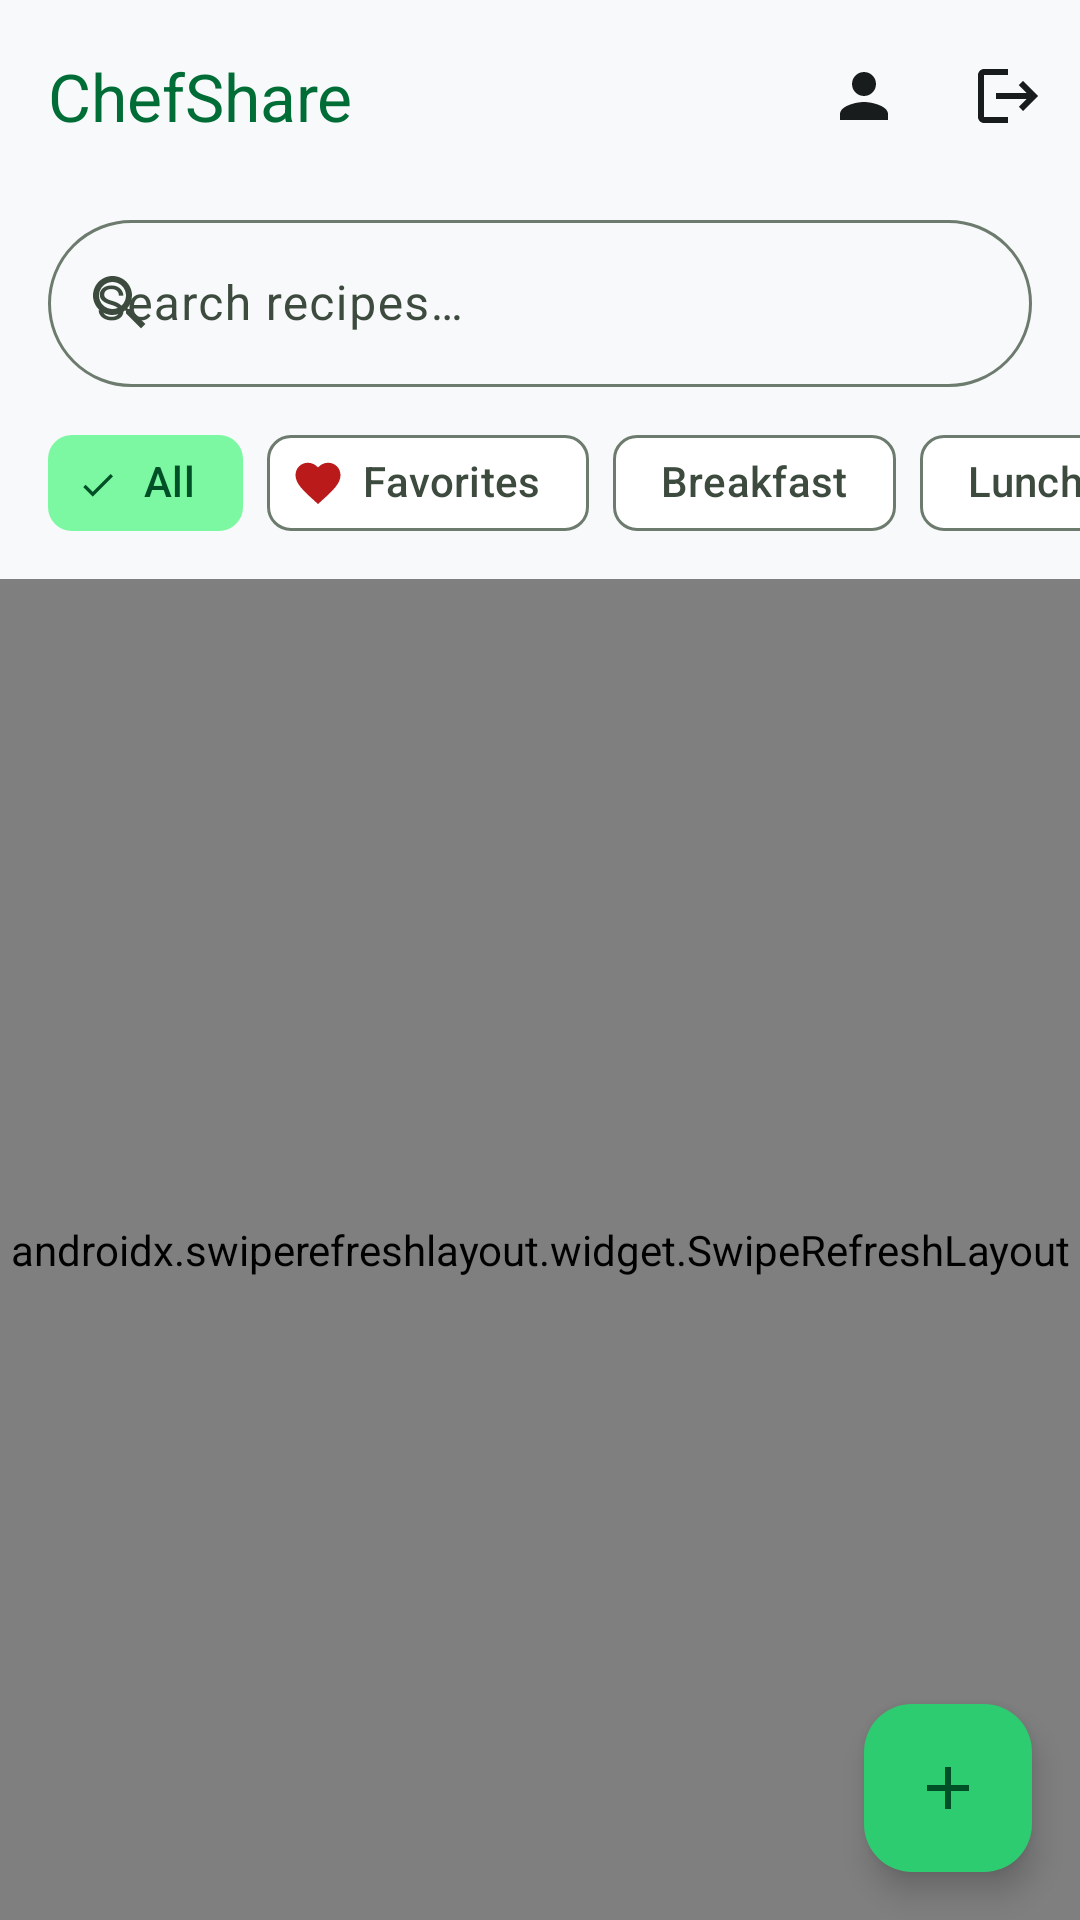

Icon bounding boxes for this 1080 x 1920 phone screenshot, format box=[x1, y1, x2, y2]:
Add a new recipe: box=[864, 1704, 1032, 1872]
